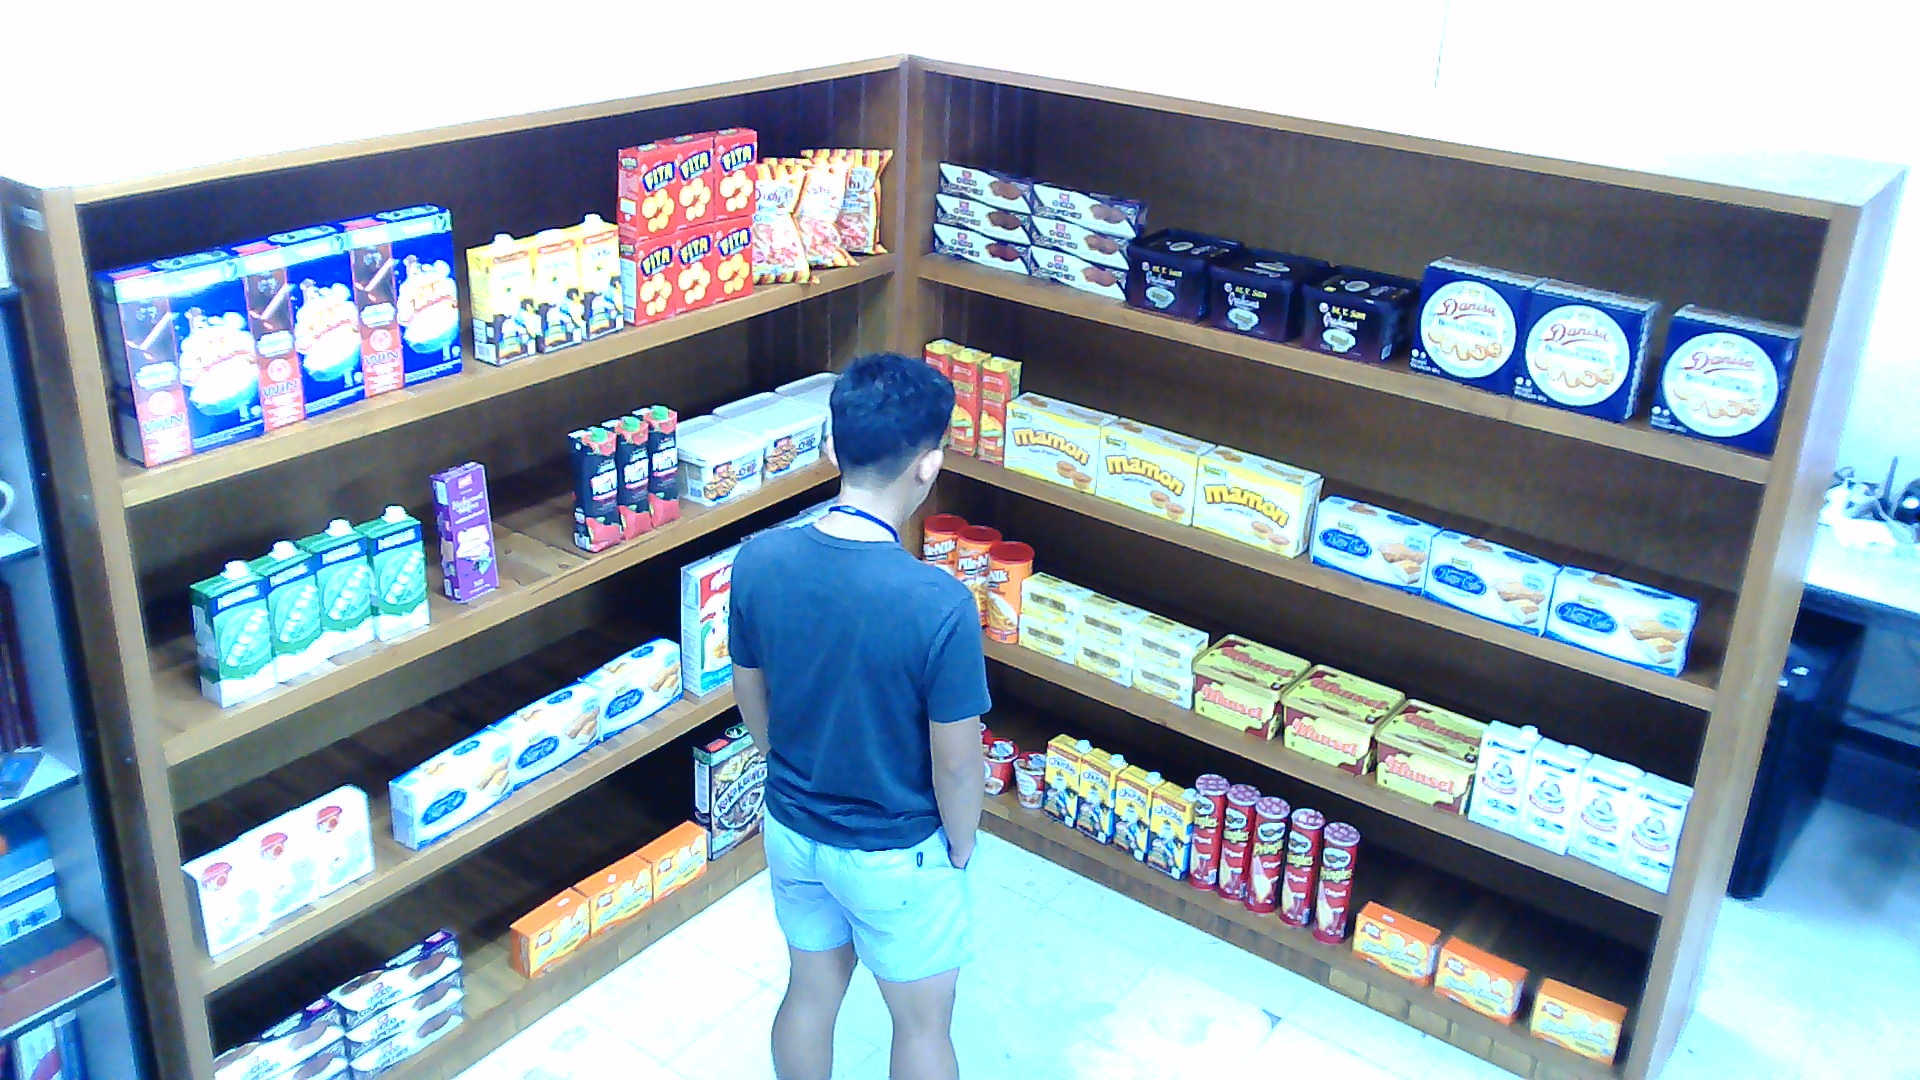Bear brand: (1566, 751, 1644, 873), (1617, 771, 1692, 893), (1515, 735, 1590, 854), (1467, 717, 1542, 834)
Buttercake: (1544, 565, 1697, 675), (387, 725, 513, 851), (1422, 527, 1563, 637), (1310, 492, 1439, 593), (489, 680, 600, 790), (578, 636, 683, 739)
Butterlicious: (1530, 976, 1626, 1064), (1431, 936, 1527, 1024), (1350, 900, 1443, 986), (510, 887, 588, 979), (573, 853, 651, 939), (633, 819, 705, 902)
Camomille: (1134, 611, 1206, 674), (1077, 591, 1149, 652), (1022, 569, 1091, 630), (1016, 612, 1073, 664), (1134, 657, 1191, 709), (1077, 632, 1131, 686)
Choco Crunchies: (327, 927, 459, 1030), (210, 994, 342, 1077), (1032, 179, 1146, 238), (936, 160, 1038, 214), (1029, 216, 1128, 270), (1029, 245, 1125, 299), (929, 223, 1028, 272), (936, 193, 1029, 242), (270, 1038, 348, 1078)
Chocolate Chips: (711, 389, 825, 479), (678, 414, 768, 504), (773, 371, 836, 409)
Chuckie: (464, 231, 533, 364), (512, 227, 581, 353), (561, 212, 624, 340), (1110, 762, 1164, 861), (1074, 746, 1128, 843), (1041, 731, 1092, 828), (1146, 780, 1191, 881)
Danisa: (1646, 301, 1799, 452), (1511, 277, 1658, 423), (1410, 252, 1548, 396)
Fita: (615, 141, 675, 238), (698, 126, 755, 220), (657, 132, 711, 229), (618, 234, 675, 324), (713, 216, 752, 304), (675, 225, 711, 313)
Fresh Milk: (189, 560, 273, 706), (294, 515, 375, 655), (246, 540, 324, 682), (353, 504, 428, 641)
Grahams: (1299, 261, 1419, 362), (1205, 242, 1328, 341), (1125, 228, 1245, 322)
Hansel: (1278, 664, 1404, 774), (1371, 699, 1485, 814), (1191, 632, 1311, 740)
Head: (819, 342, 954, 522)
Honey Stars: (89, 245, 260, 468), (219, 222, 363, 431), (330, 200, 462, 396)
Kellogg Corn Flakes: (678, 540, 744, 695)
Kimchi Noodles: (981, 736, 1017, 792), (1010, 748, 1043, 807)
Koko Krunch: (689, 720, 764, 862)
Locally Mango: (974, 356, 1019, 466), (948, 343, 990, 456), (923, 337, 962, 380)
Mamon: (1190, 441, 1319, 558), (1094, 414, 1211, 524), (1002, 391, 1116, 492)
Oishi Prawn: (801, 148, 891, 251), (752, 162, 821, 286), (798, 158, 858, 268)
Pik-nik: (984, 540, 1032, 643), (954, 524, 1002, 625), (921, 513, 969, 576)
Pringles: (1311, 821, 1359, 945), (1242, 796, 1290, 911), (1278, 807, 1323, 924), (1214, 783, 1259, 900), (1187, 771, 1226, 886)
Super Fruits: (567, 423, 621, 553), (599, 412, 650, 540), (630, 401, 678, 527)
Wafer: (428, 459, 497, 603)
iHop: (180, 839, 264, 956), (236, 810, 317, 920), (294, 785, 372, 893)
